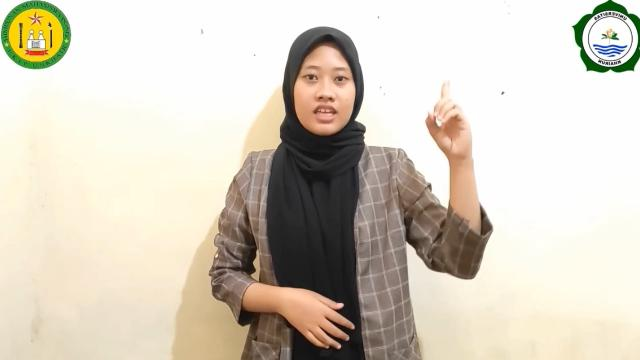D: (424, 75, 480, 159)
